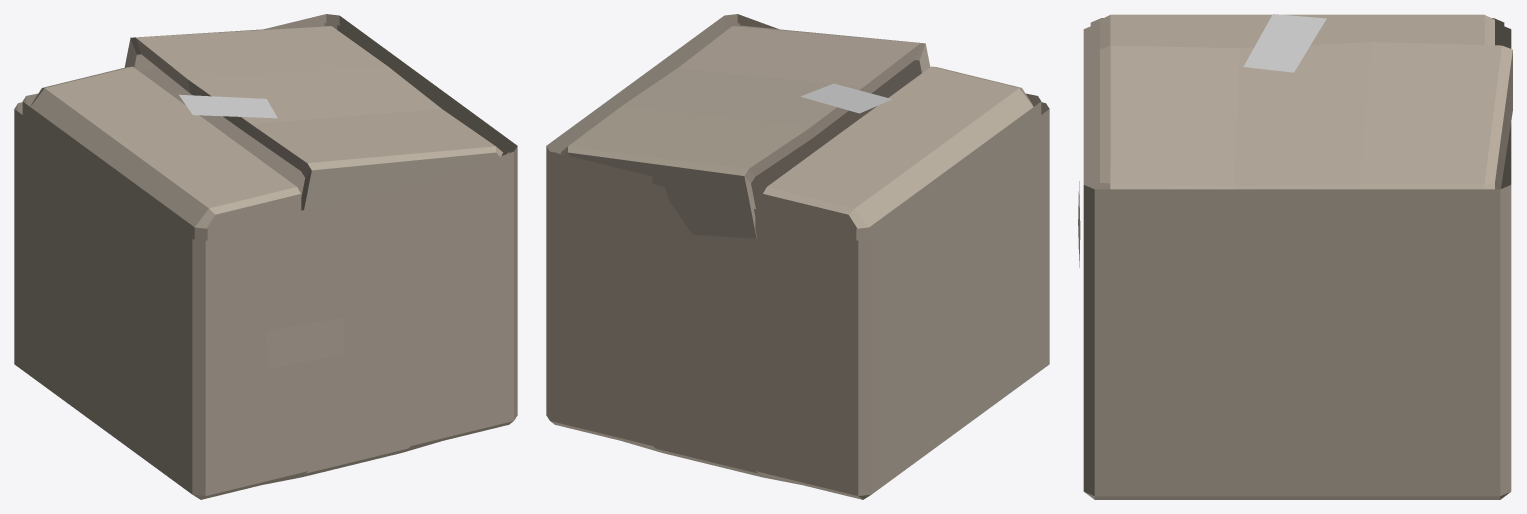
File: CardboardBox01.fbx
The picture shows the model from 3 angles, left to right: view 1: azimuth 30°, elevation 25°; view 2: azimuth 150°, elevation 25°; view 3: azimuth 270°, elevation 25°; orthographic projection. The views are drawn at different scales.
Parts seen in each view (by area): view 1: CardboardBox01; view 2: CardboardBox01; view 3: CardboardBox01.
Boxes of the visible parts, box(x1,y1,x2,y2) form: CardboardBox01: box(14, 14, 517, 499); CardboardBox01: box(546, 14, 1049, 499); CardboardBox01: box(1078, 14, 1512, 499).
Size of the model in its own units: 132 by 123 by 134.
